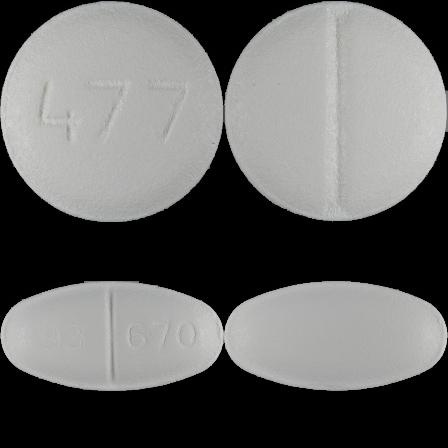0615-3552: (0, 0, 224, 224)
